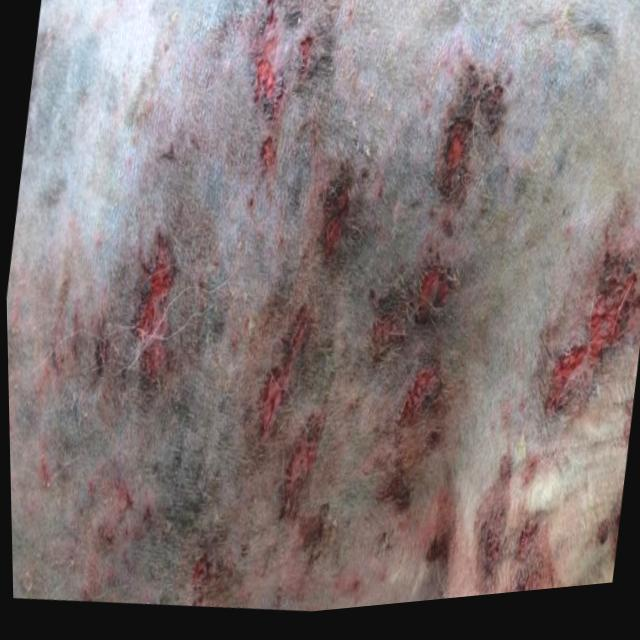viem da do vi khuan cho: (14, 0, 640, 614)
